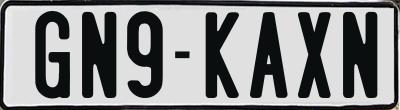9: (127, 9, 168, 100)
A: (248, 9, 292, 98)
G: (35, 11, 75, 99)
K: (204, 11, 240, 98)
N: (343, 11, 381, 101), (79, 12, 115, 100)
X: (298, 11, 332, 99)
